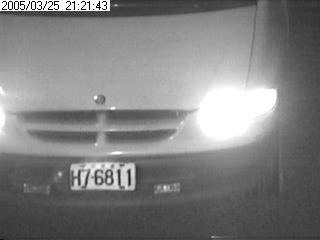plate: (68, 158, 136, 193)
